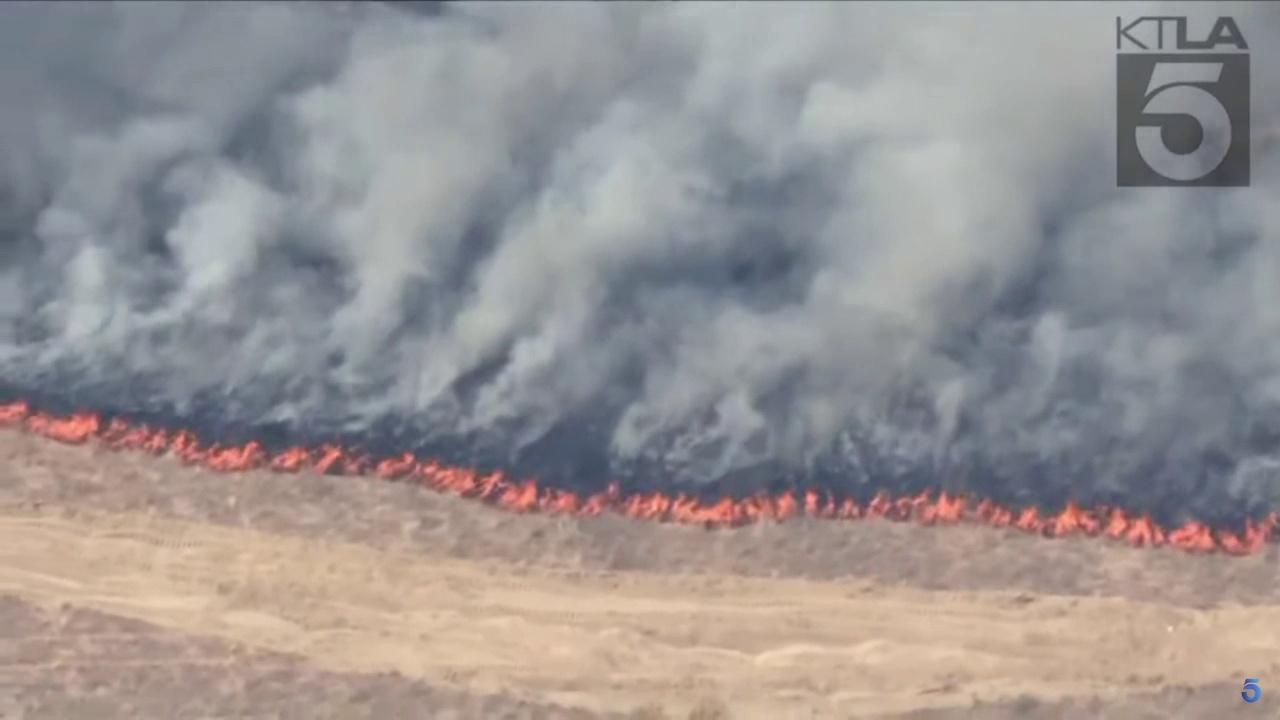fire: (0, 394, 1280, 557)
smoke: (0, 0, 1280, 531)
